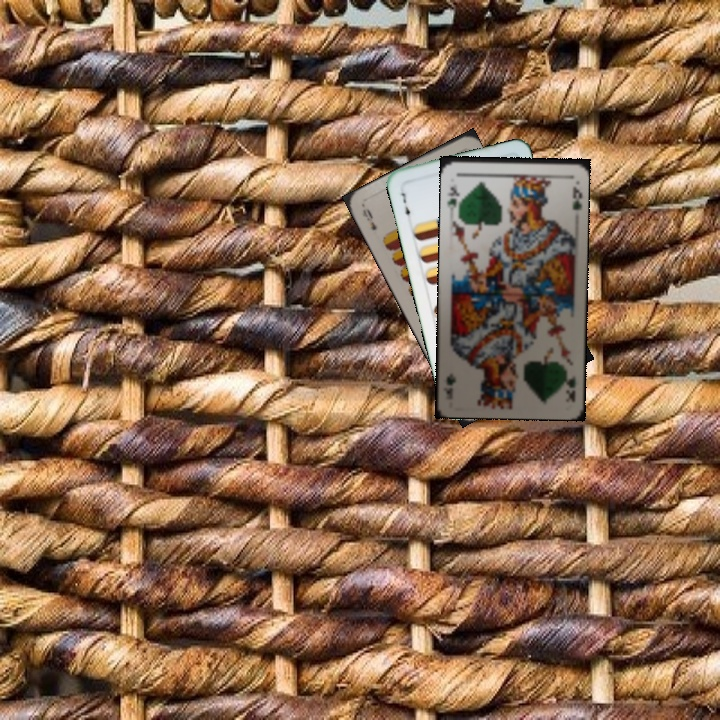E7: (397, 189, 413, 223)
E9: (358, 205, 379, 233)
GK: (560, 372, 578, 403), (444, 182, 462, 211)
